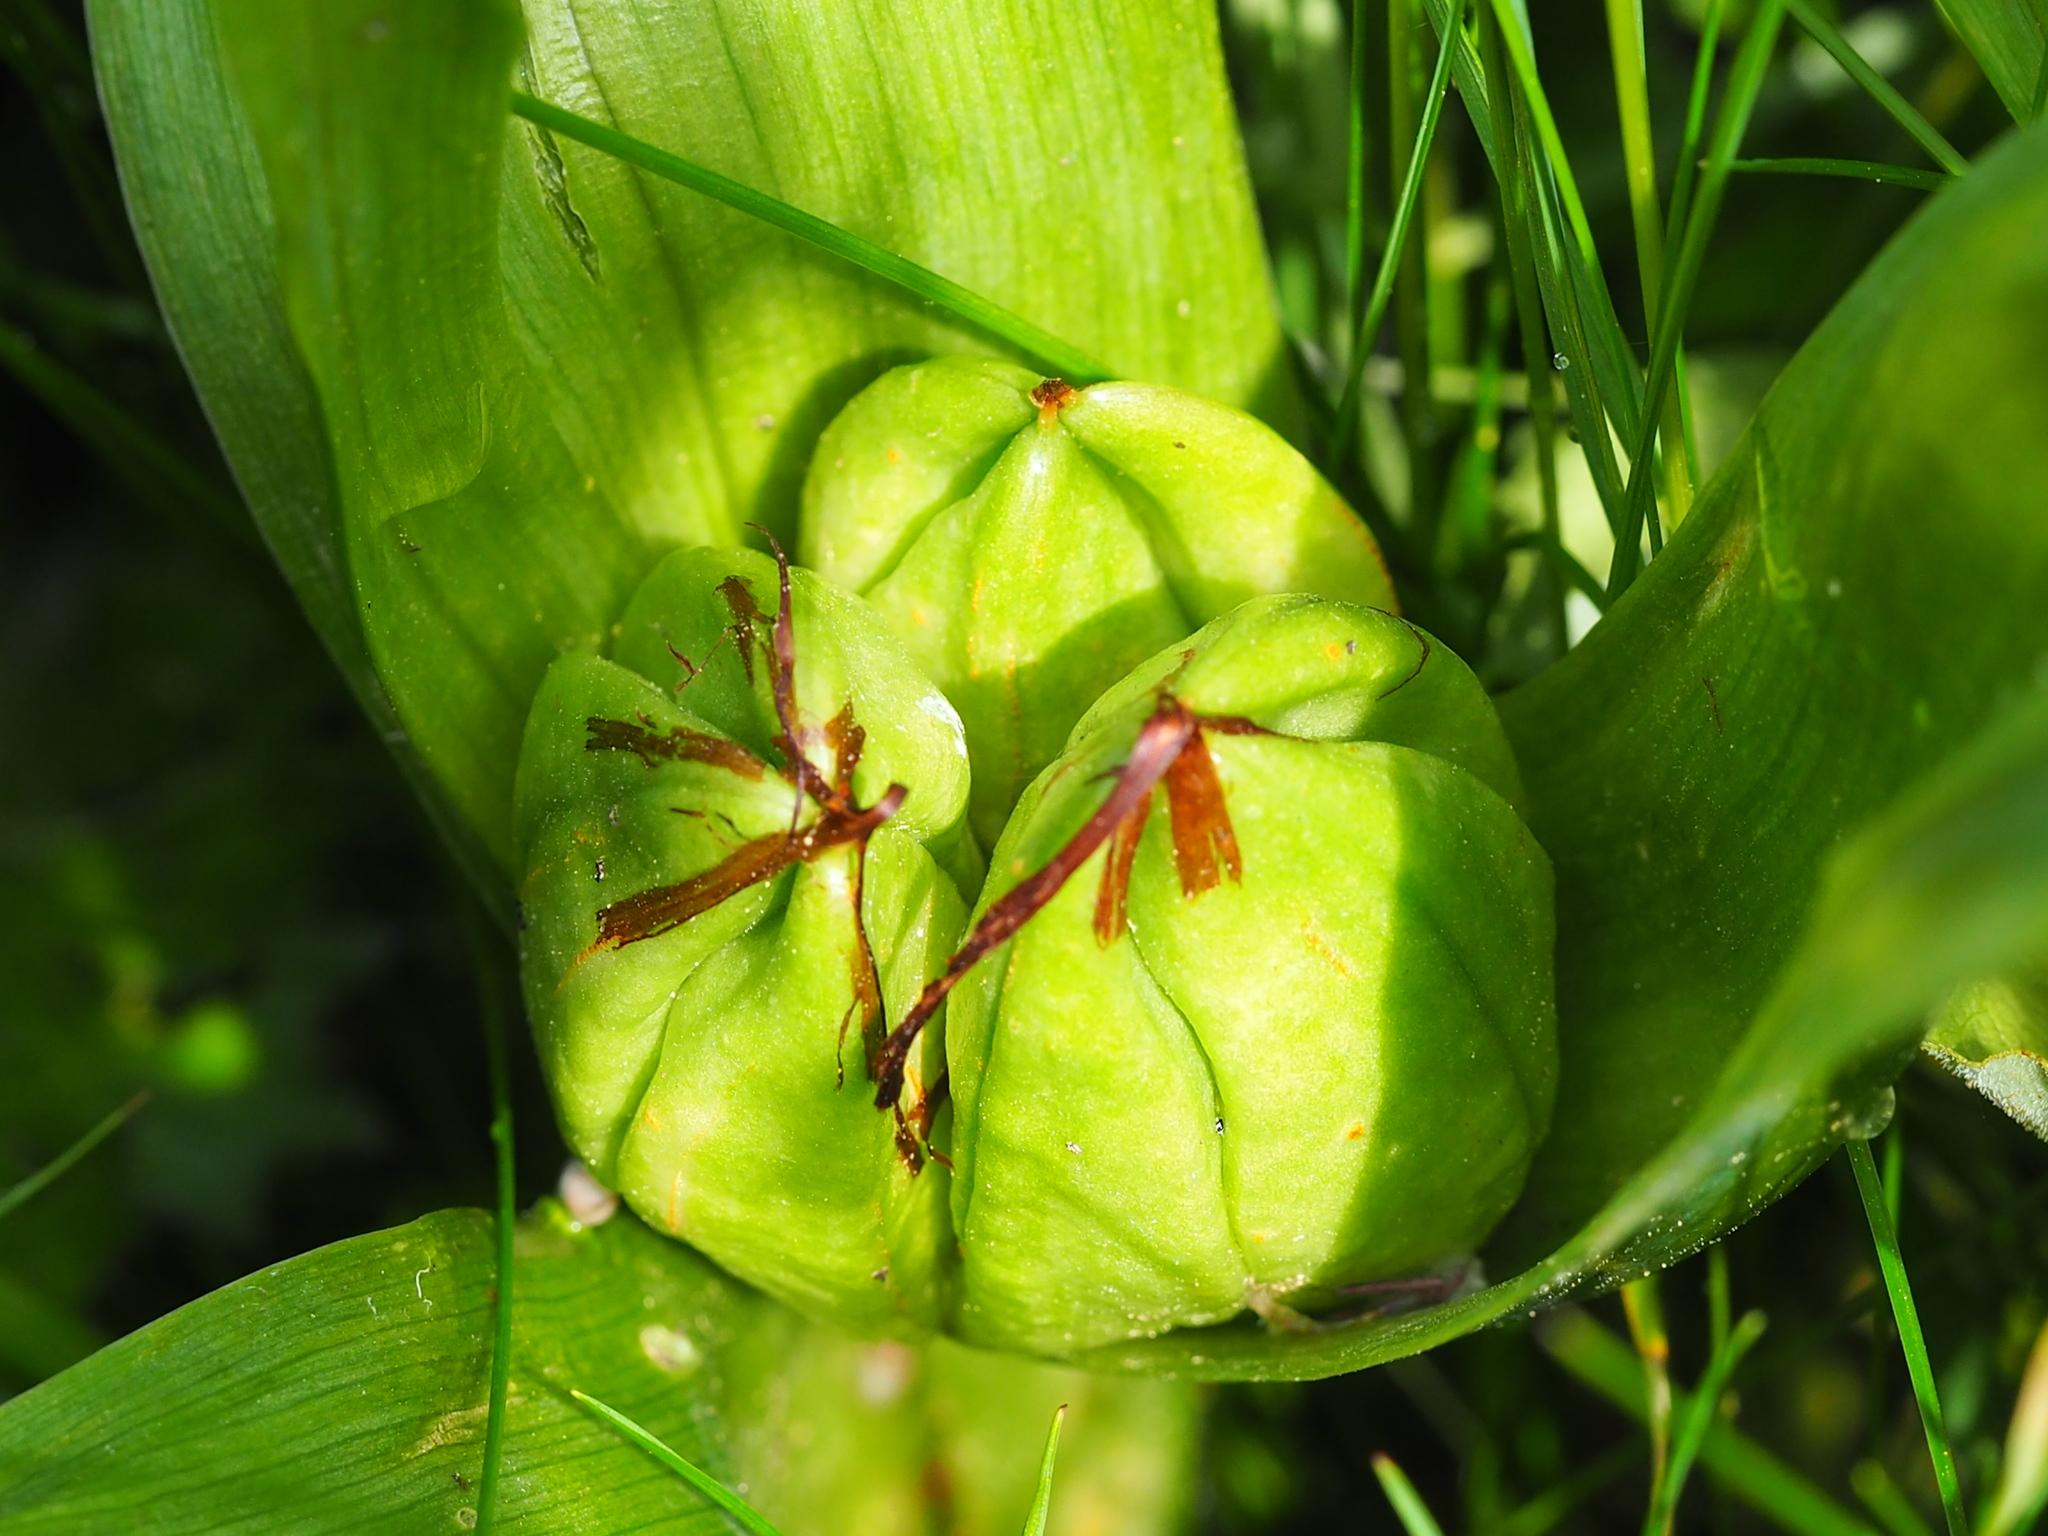Colchicum autumnale L: (69, 5, 2048, 1530)
